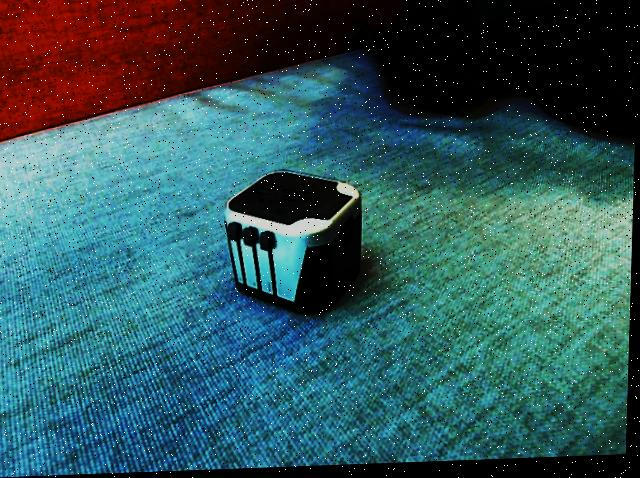adapter: (221, 169, 365, 320)
